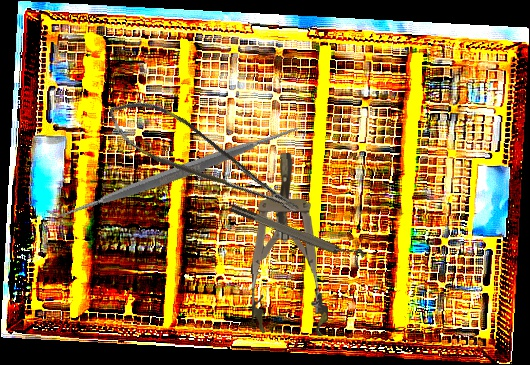Fixation Ring: (228, 196, 367, 269)
Micro Scissor: (98, 80, 304, 246)
Spatula Surgical: (45, 39, 309, 306)
Speculum: (249, 152, 329, 338)
